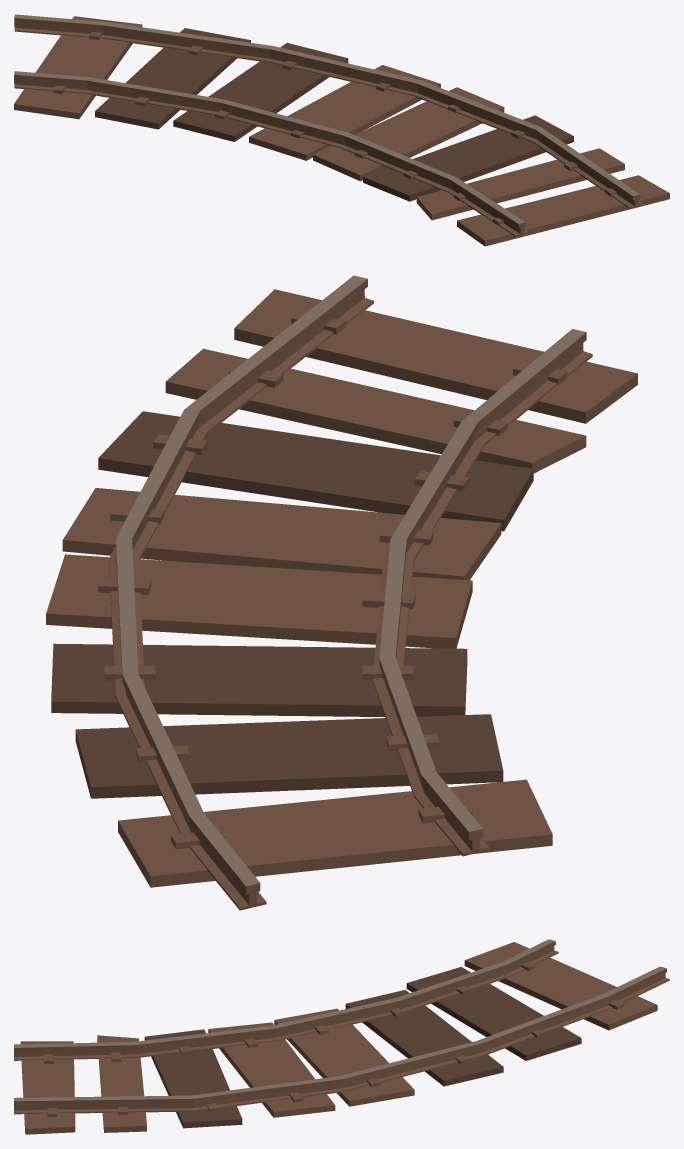
File: Mines Car Track Half Curve.glb
The picture shows the model from 3 angles, top to bottom: view 1: azimuth 30°, elevation 25°; view 2: azimuth 150°, elevation 25°; view 3: azimuth 270°, elevation 25°; orthographic projection. The views are drawn at different scales.
Parts seen in each view (by area): view 1: Mines Car Track Half Curve; view 2: Mines Car Track Half Curve; view 3: Mines Car Track Half Curve.
Boxes of the visible parts, x1,y1,x2,y2 form: Mines Car Track Half Curve: (14,14,669,246); Mines Car Track Half Curve: (46,275,637,910); Mines Car Track Half Curve: (14,939,669,1134).
Size of what is drawn, in the model's own units: 2.19 by 0.092 by 3.25.
1 material, 1 textured.
